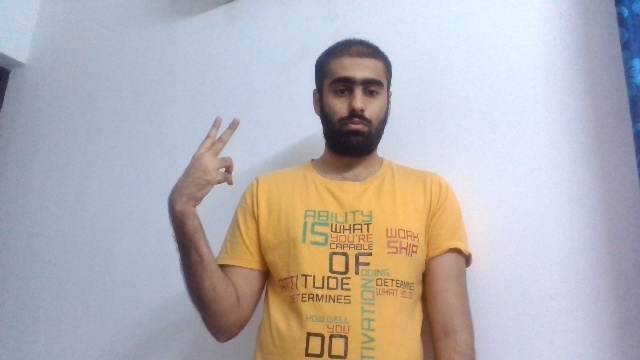scissors: (167, 115, 241, 210)
